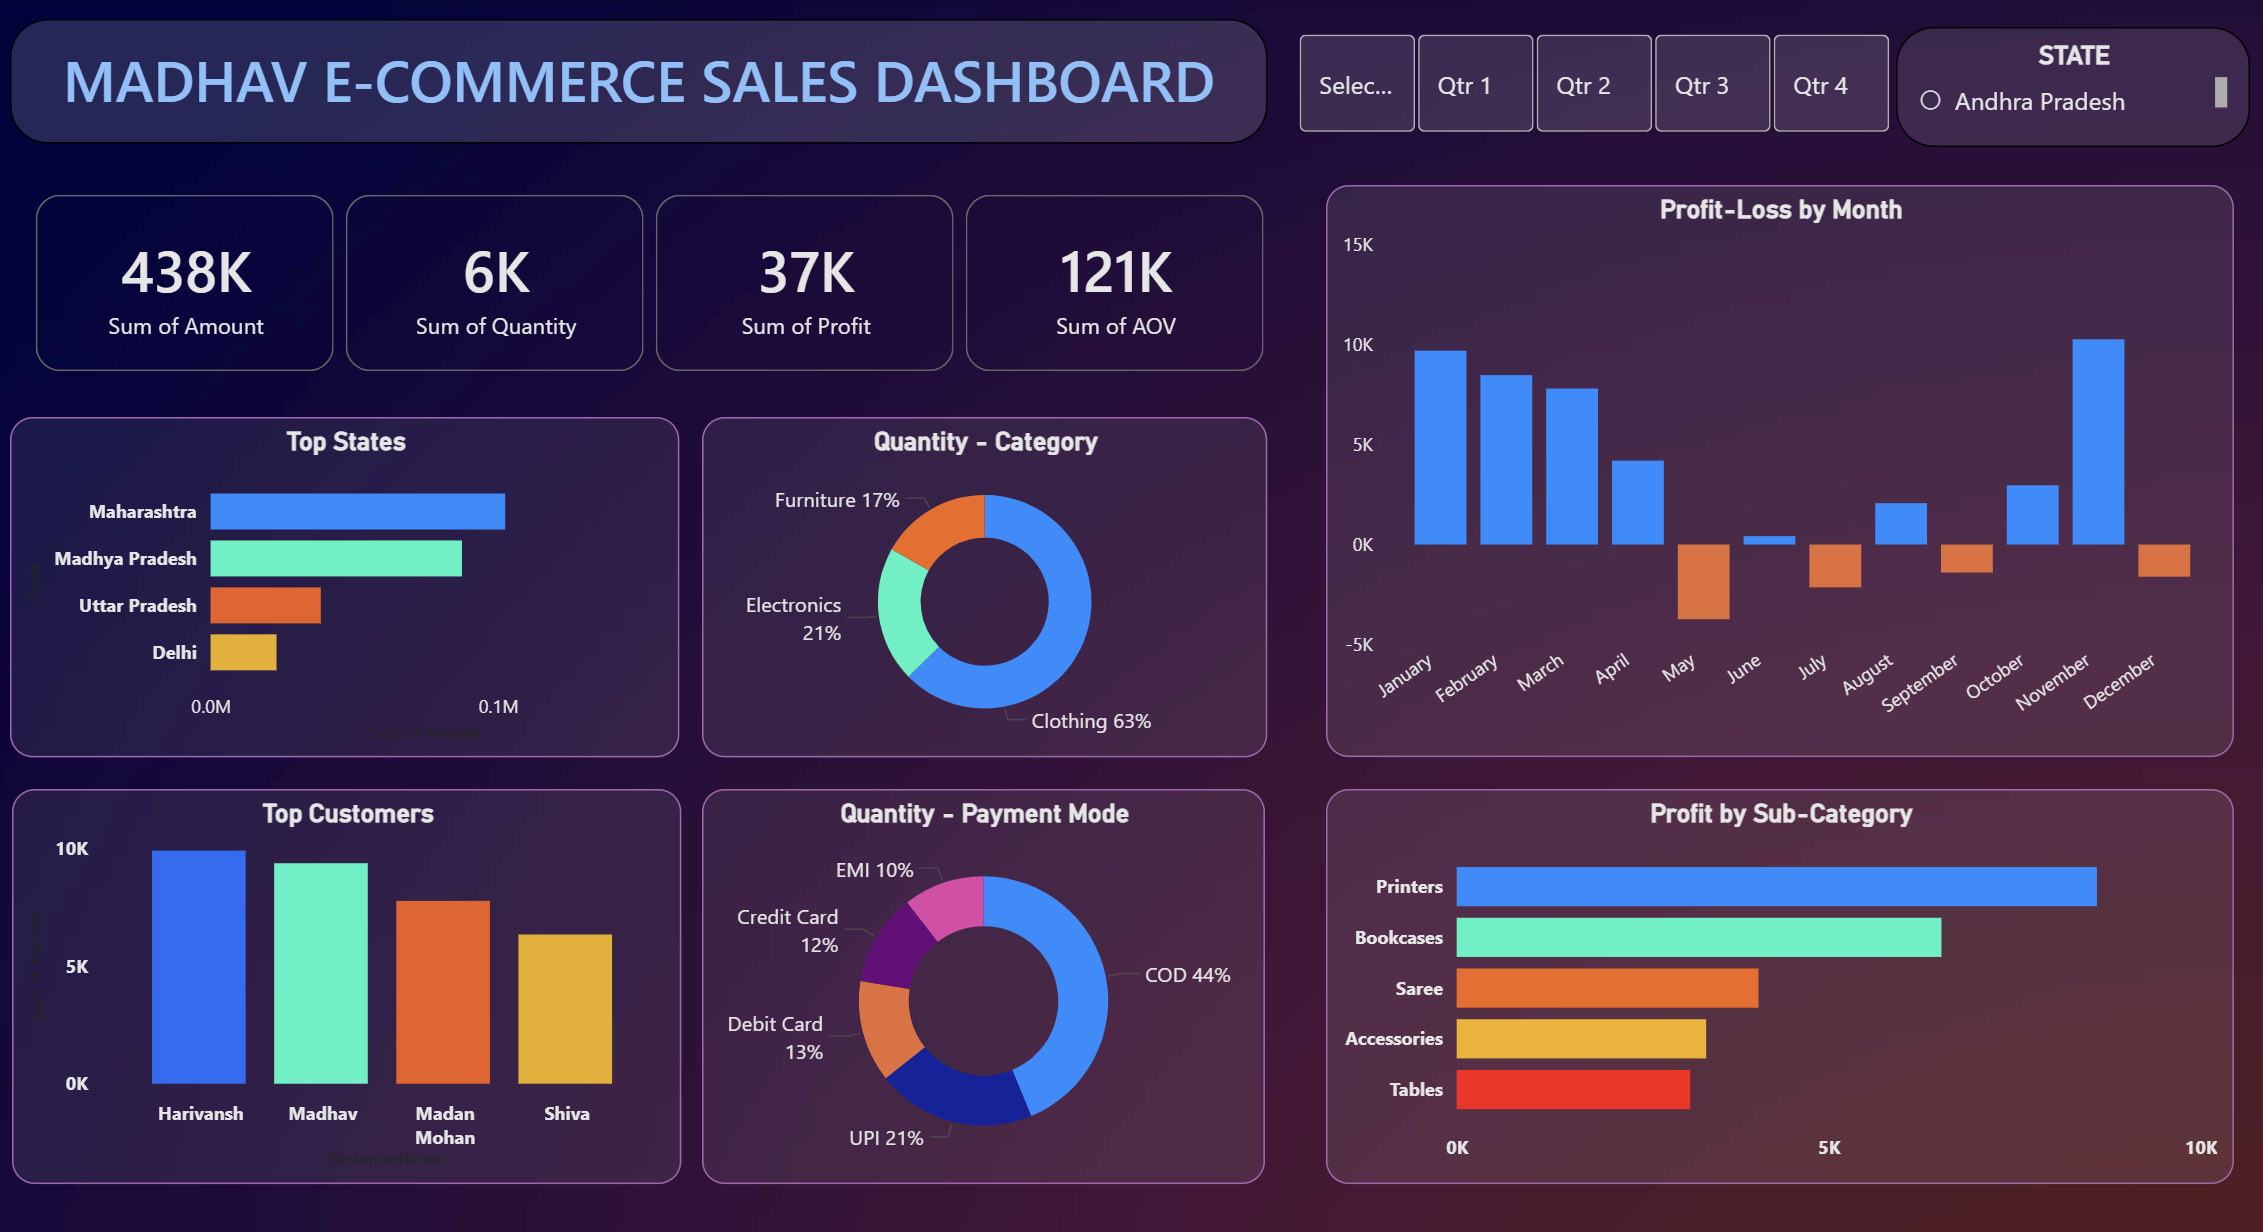

The dashboard page shown, as its layout file describes it:
{"tool":"powerbi","page":{"name":"Page 1","canvas":[1500,820],"ordinal":0},"visuals":[{"type":"textbox","box":[10.5,14.9,827.7,82.2],"z":0},{"type":"columnChart","title":"Profit-Loss by Month","fields":{"Category":["Orders.Order Date.Variation.Date Hierarchy.Month"],"Y":["Sum(Details.Profit)"]},"box":[877,124,597.6,376.5],"z":1000},{"type":"barChart","title":"Profit by Sub-Category","fields":{"Category":["Details.Sub-Category"],"Y":["Sum(Details.Profit)"]},"box":[877,521.4,597.6,260],"z":2000},{"type":"donutChart","title":"Quantity - Category","fields":{"Category":["Details.Category"],"Y":["Sum(Details.Quantity)"]},"box":[466.1,276.4,372,224.1],"z":3000},{"type":"donutChart","title":"Quantity - Payment Mode","fields":{"Y":["Sum(Details.Quantity)"],"Category":["Details.PaymentMode"]},"box":[466.1,521.4,370.5,260],"z":4000},{"type":"cardVisual","fields":{"Data":["Sum(Details.Amount)","Sum(Details.Quantity)","Sum(Details.Profit)","Sum(Details.AOV)"]},"box":[10.5,113.5,844.1,150.9],"z":5000},{"type":"barChart","title":"Top States","fields":{"Category":["Orders.State"],"Y":["Sum(Details.Amount)"]},"box":[10.5,276.4,440.7,224.1],"z":6000},{"type":"columnChart","title":"Top Customers","fields":{"Category":["Orders.CustomerName"],"Y":["Sum(Details.Amount)"]},"box":[12,521.4,440.7,260],"z":7000},{"type":"advancedSlicerVisual","fields":{"Values":["Orders.Order Date.Variation.Date Hierarchy.Quarter"]},"box":[854.6,19.4,398.9,74.7],"z":8000},{"type":"listSlicer","title":"STATE","fields":{"Values":["Orders.State"]},"box":[1251.7,19.7,233,79],"z":8001}]}

Visuals, with their boxes in screenshot pixels (x1, y1, x2, y2), scaled from the page's 1500x820 canvas onto the 2263x1232 screenshot:
textbox: [16, 22, 1265, 146]
"Profit-Loss by Month" columnChart: [1323, 186, 2225, 752]
"Profit by Sub-Category" barChart: [1323, 783, 2225, 1174]
"Quantity - Category" donutChart: [703, 415, 1264, 752]
"Quantity - Payment Mode" donutChart: [703, 783, 1262, 1174]
cardVisual - Sum(Details.Amount) x Sum(Details.Quantity): [16, 171, 1289, 397]
"Top States" barChart: [16, 415, 681, 752]
"Top Customers" columnChart: [18, 783, 683, 1174]
advancedSlicerVisual - Orders.Order Date.Variation.Date Hierarchy.Quarter: [1289, 29, 1891, 141]
"STATE" listSlicer: [1888, 30, 2240, 148]
